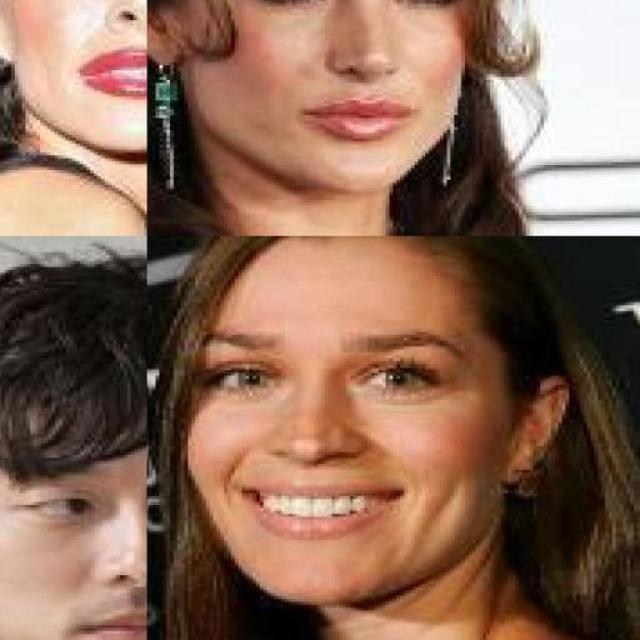bareface: (166, 250, 482, 584)
